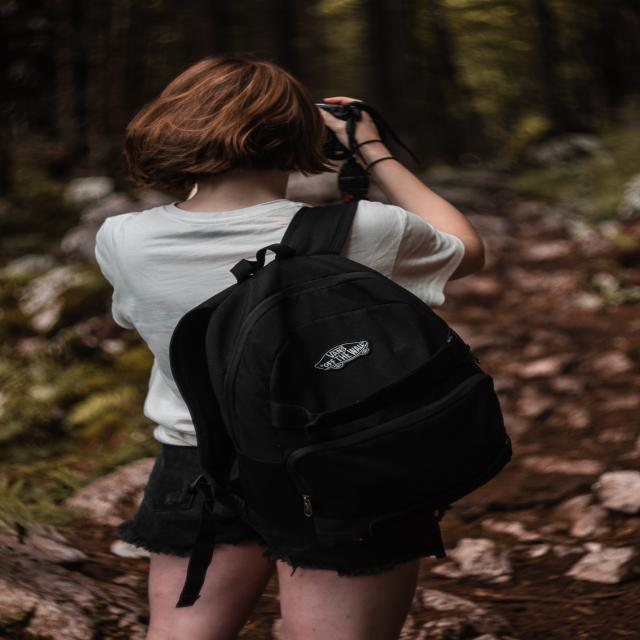backpack: (169, 205, 516, 548)
